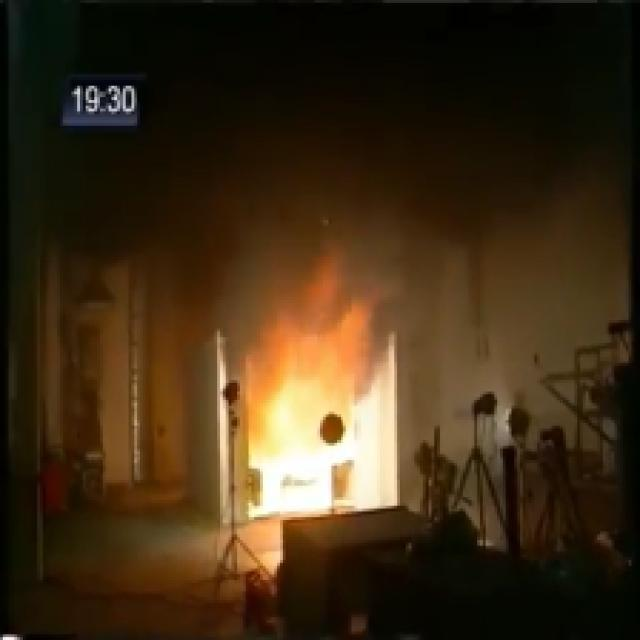Fire: (265, 364, 343, 447)
